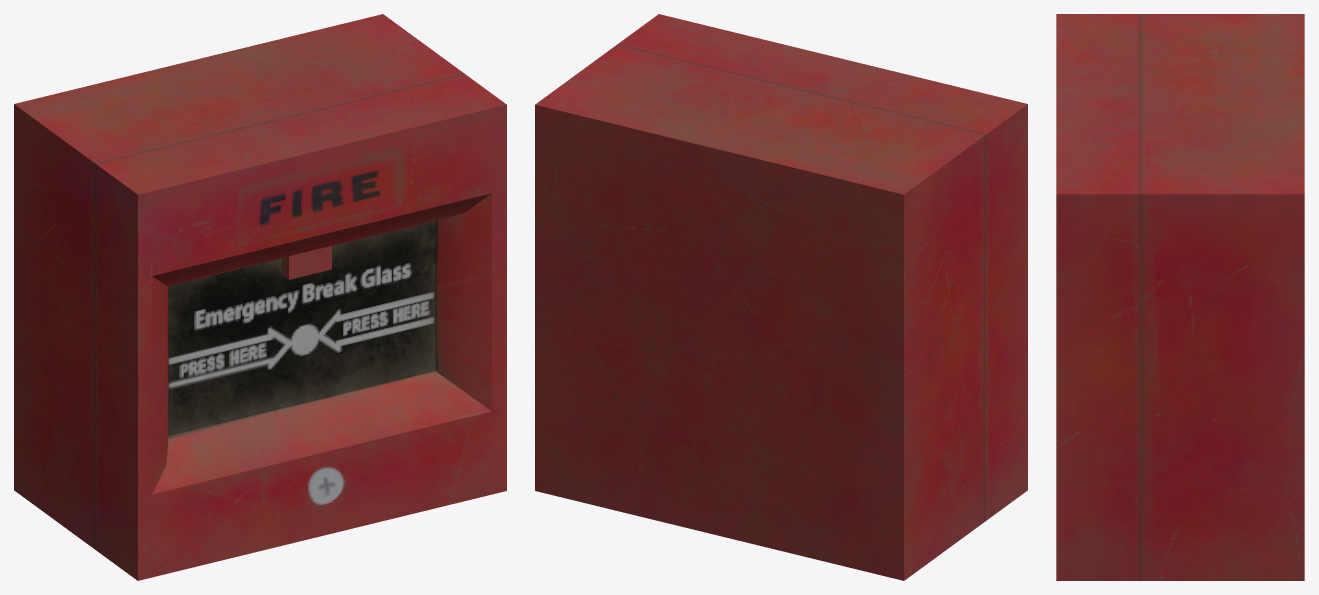
File: FireAlarm_01a_snaps019.fbx
3 views of the same model, side by side, from view 1: azimuth 30°, elevation 25°; view 2: azimuth 150°, elevation 25°; view 3: azimuth 270°, elevation 25° (orthographic).
Parts seen in each view (by area): view 1: FireAlarm_01a_snaps019_LOD0; view 2: FireAlarm_01a_snaps019_LOD0; view 3: FireAlarm_01a_snaps019_LOD0.
Boxes of the visible parts, x1,y1,x2,y2 form: FireAlarm_01a_snaps019_LOD0: [14, 14, 506, 580]; FireAlarm_01a_snaps019_LOD0: [535, 14, 1027, 580]; FireAlarm_01a_snaps019_LOD0: [1056, 14, 1304, 580].
Size of what is drawn, in the model's own units: 8.6 by 8.6 by 5.
